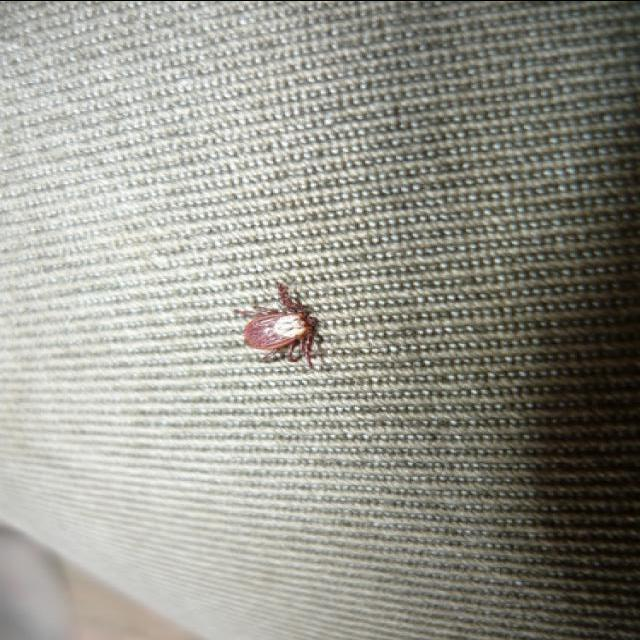Dermacentor Reticulatus-F: (236, 279, 323, 375)
